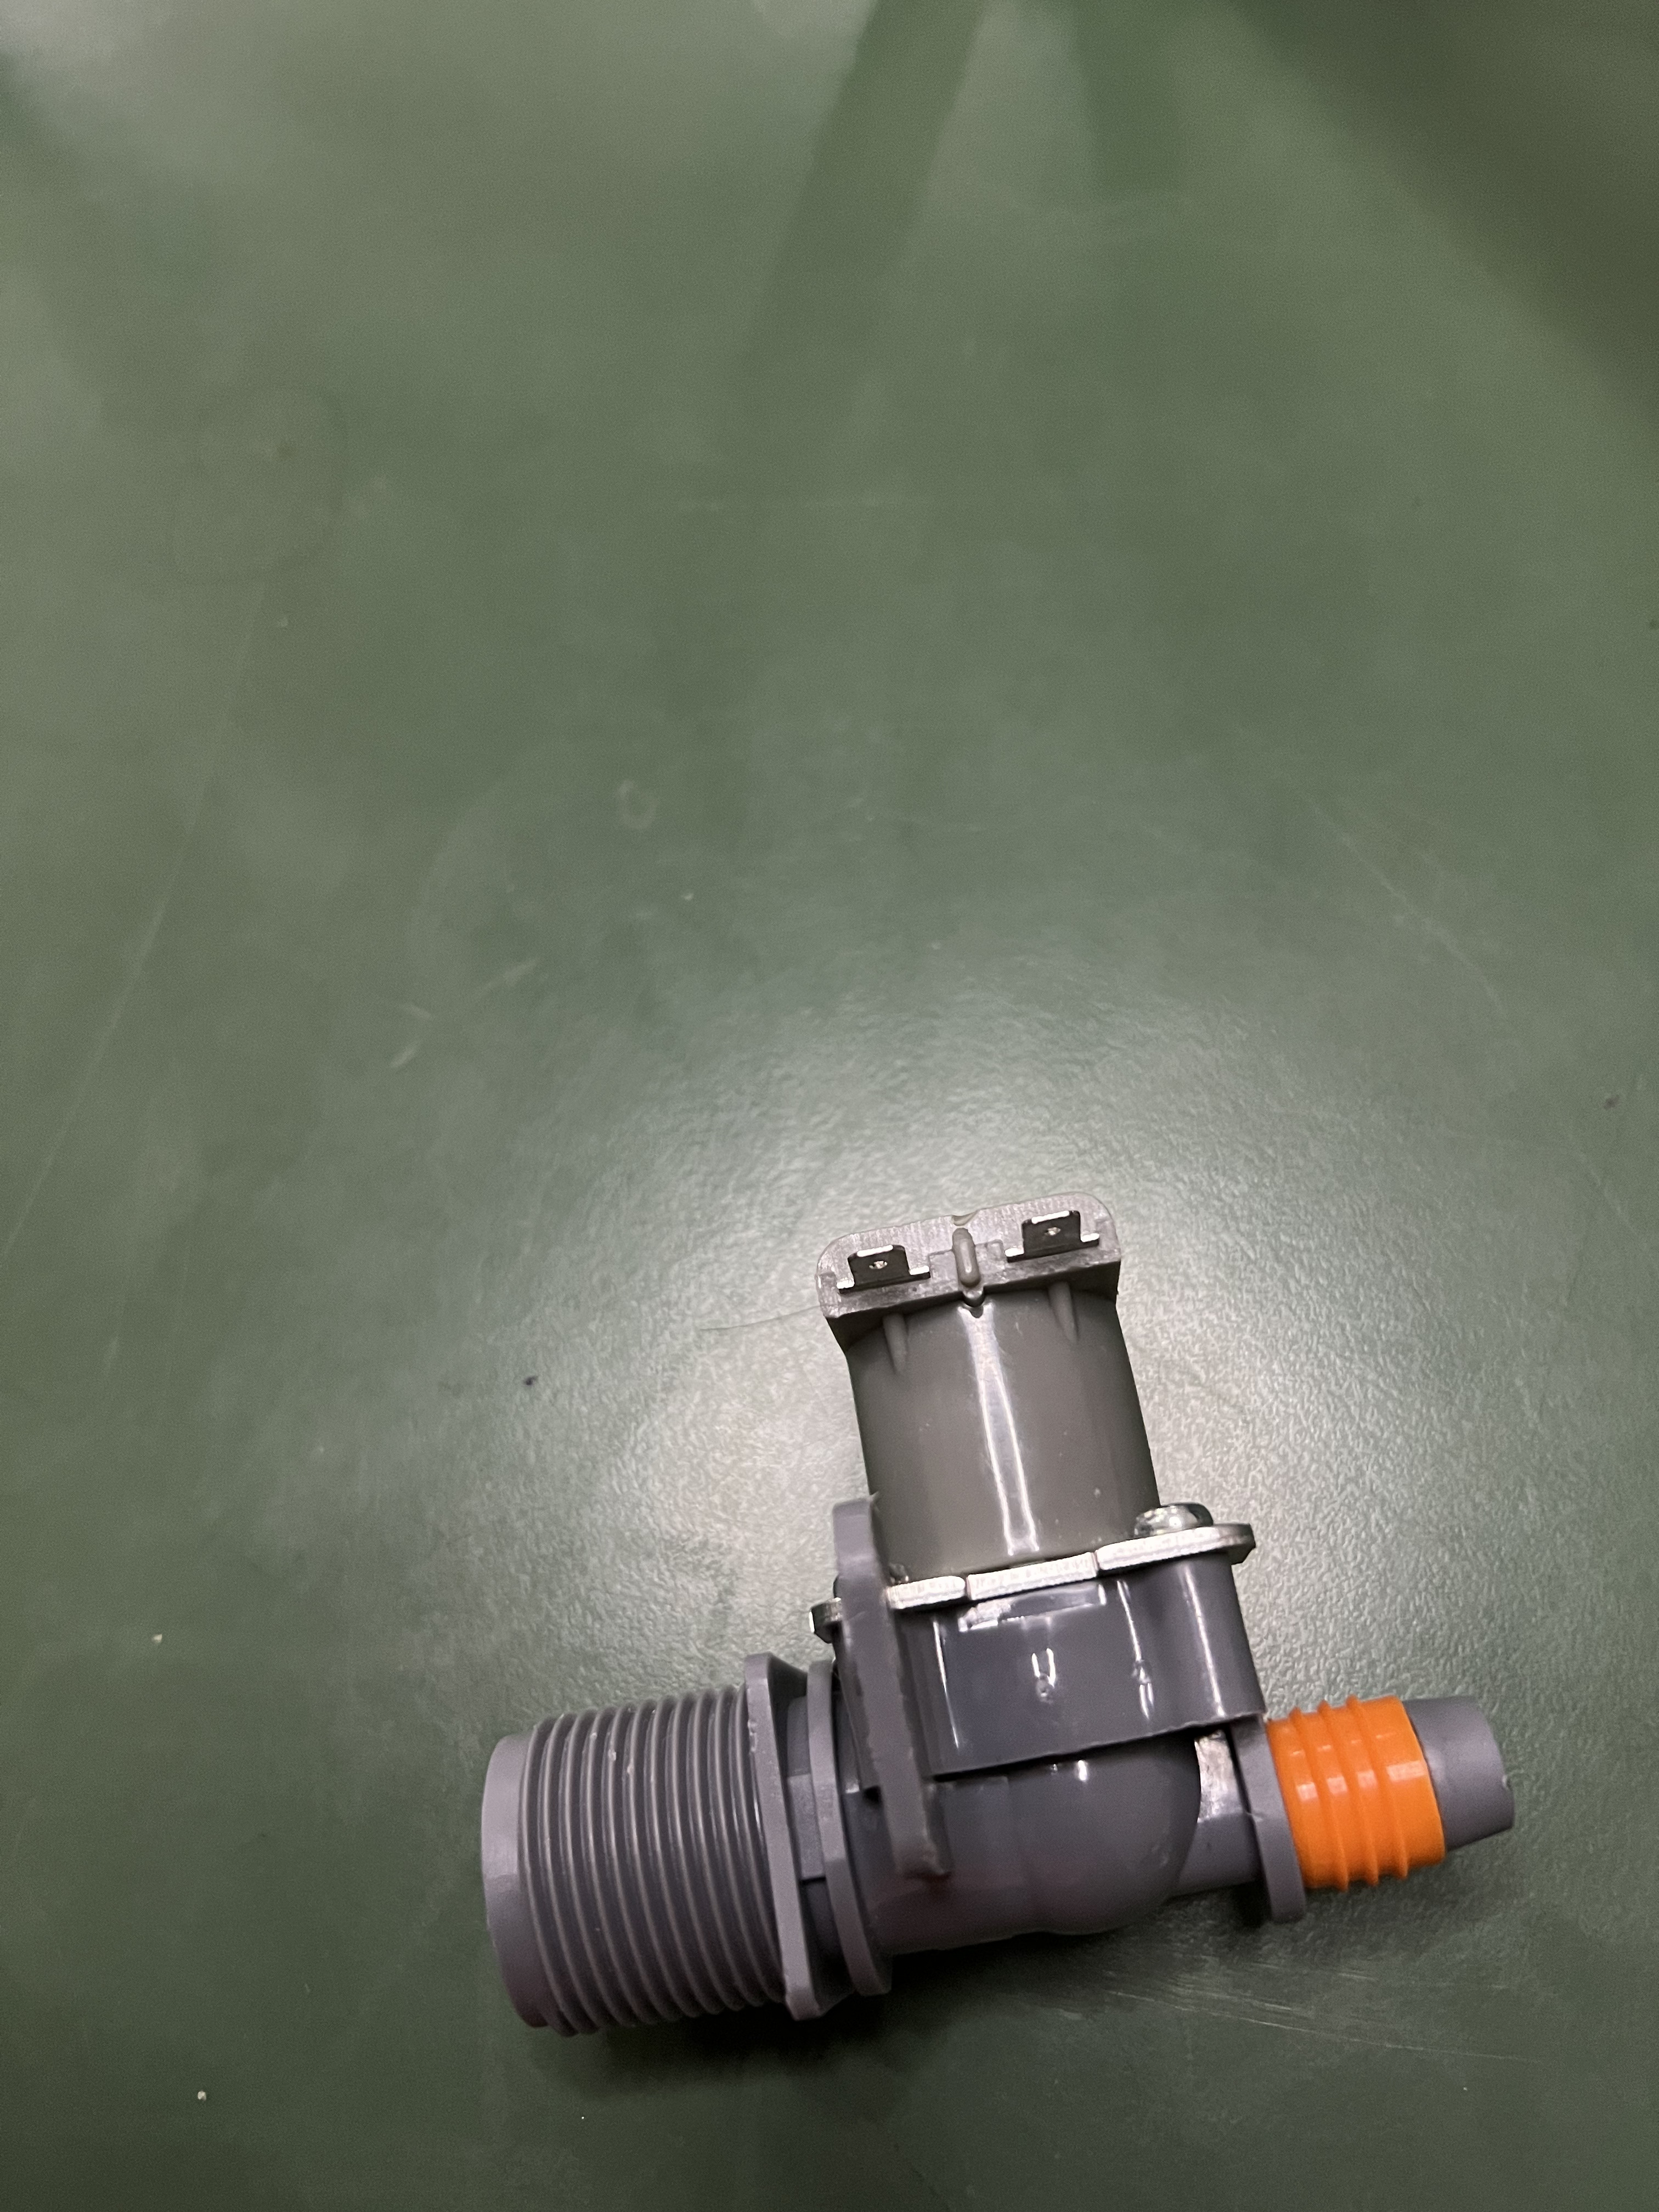inlet_valves: (450, 1162, 1534, 2048)
